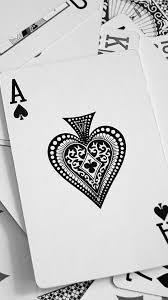ace of spades: (2, 47, 166, 287)
